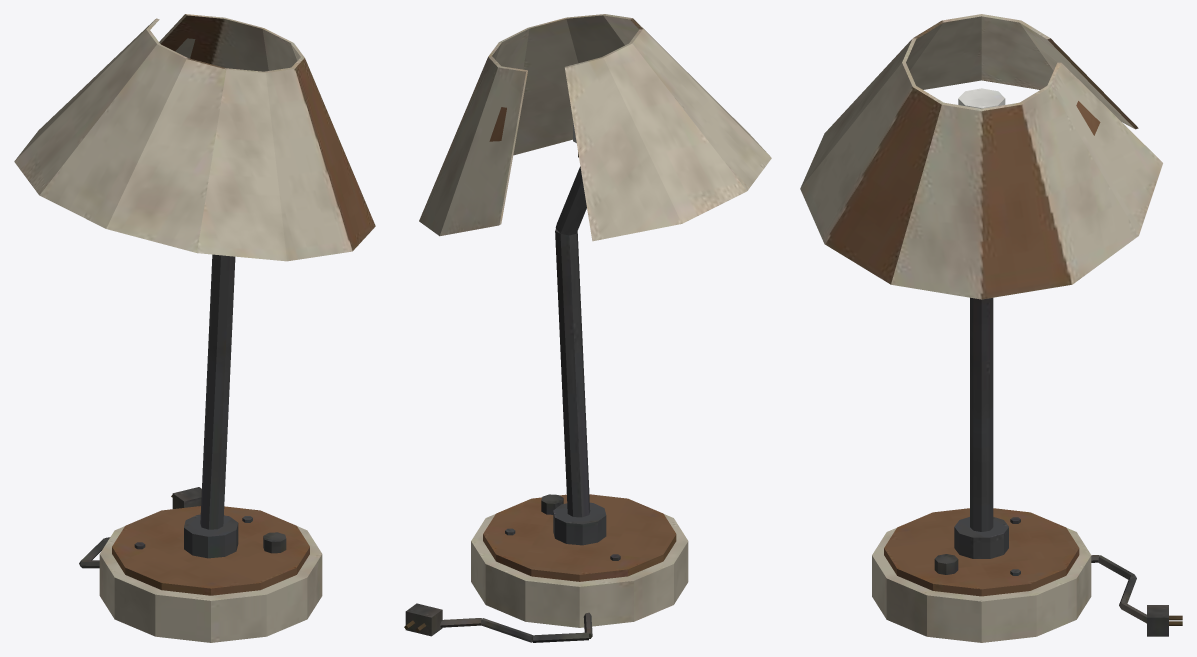
The model's file is BR32_broken_lamp_v2.glb.
3 views of the same model, side by side, from view 1: azimuth 30°, elevation 25°; view 2: azimuth 150°, elevation 25°; view 3: azimuth 270°, elevation 25° (orthographic). The views are drawn at different scales.
Parts seen in each view (by area): view 1: Weighted circular foot; view 2: Weighted circular foot; view 3: Weighted circular foot.
Part boxes in pixels (x1,y1,x2,y2): Weighted circular foot: [14, 14, 375, 642]; Weighted circular foot: [404, 14, 771, 642]; Weighted circular foot: [800, 14, 1182, 642].
Bounding box in the file's own units: 0.2884 × 0.5 × 0.3115.
Materials: 6 (6 with a texture image).
